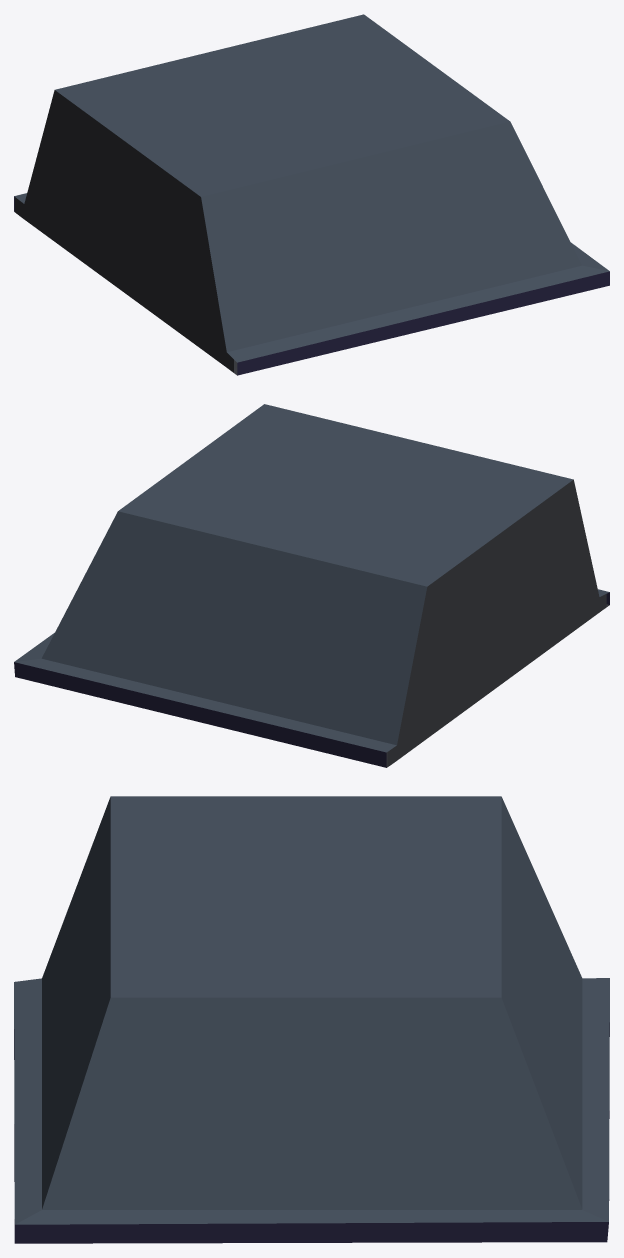
The model's file is SingleRoofLeftside.fbx.
3 renders of one model, top to bottom at view 1: azimuth 30°, elevation 25°; view 2: azimuth 150°, elevation 25°; view 3: azimuth 270°, elevation 25°, orthographic. The views are drawn at different scales.
Parts seen in each view (by area): view 1: Cube; view 2: Cube; view 3: Cube.
Part boxes in pixels (x1,y1,x2,y2): Cube: [14, 14, 609, 375]; Cube: [14, 404, 609, 767]; Cube: [14, 796, 609, 1243].
Size of the model in its own units: 514 by 202 by 533.
